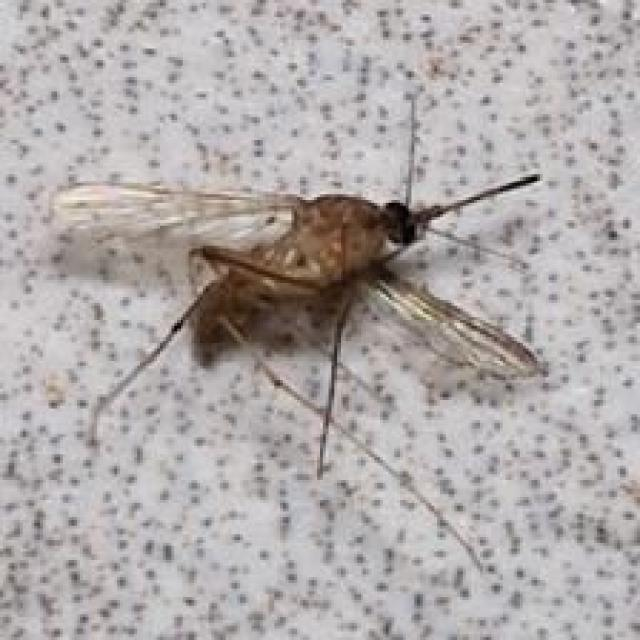Culex: (50, 91, 550, 574)
